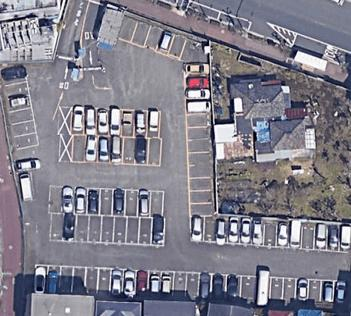parkingspot: (34, 263, 351, 307), (189, 215, 351, 255), (182, 62, 217, 218), (47, 184, 165, 220), (49, 213, 166, 248), (0, 65, 41, 153), (117, 14, 189, 61), (69, 104, 161, 139), (71, 134, 163, 167)
